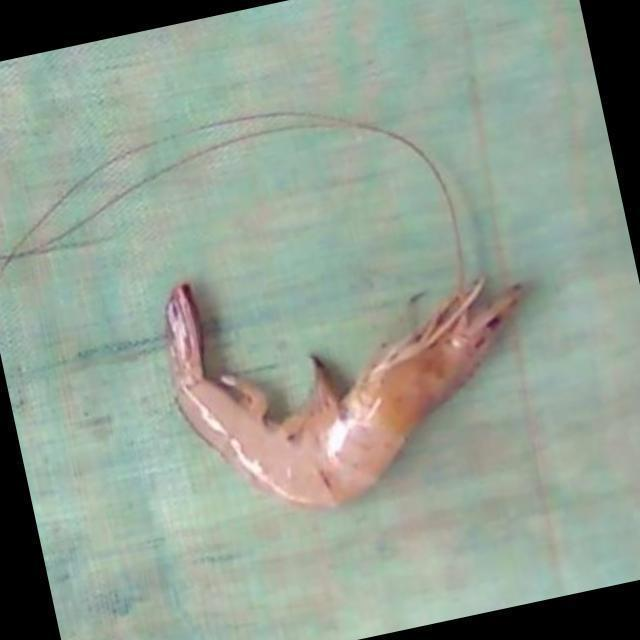shrimp: (165, 278, 522, 509)
